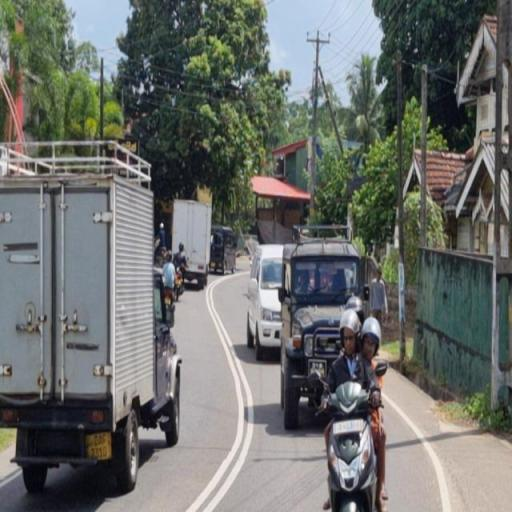double_white_line: (196, 279, 256, 510)
